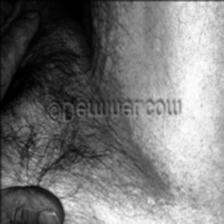Toxin: (68, 124, 167, 206), (62, 0, 126, 97)
